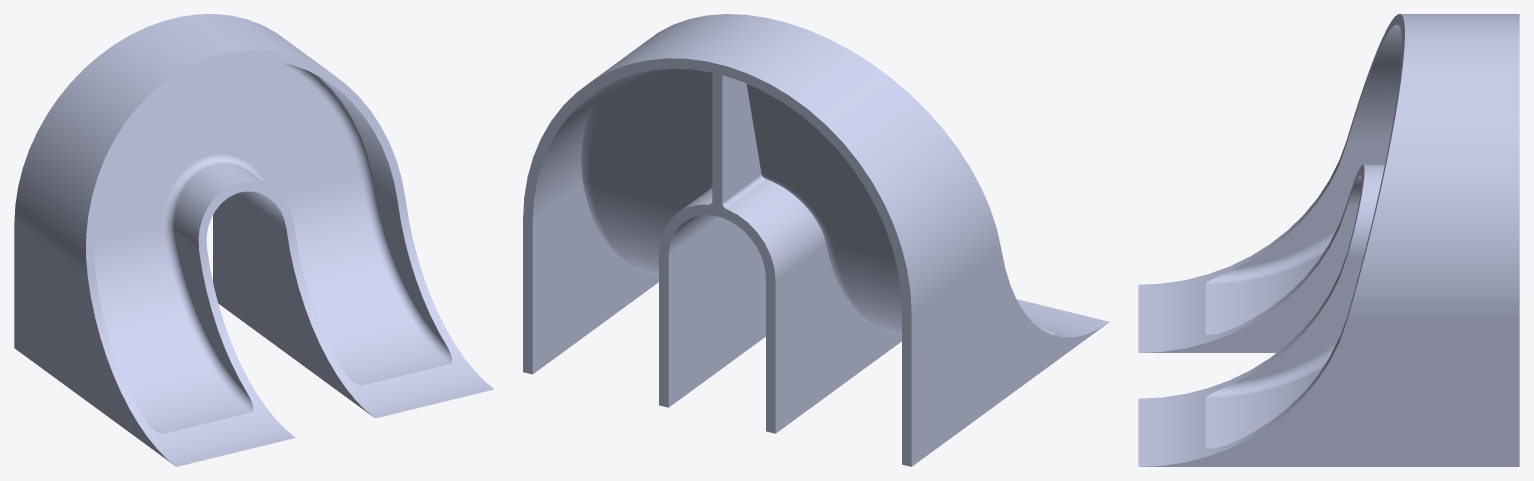
The model's file is Vertical Loop Ramp.fbx.
The picture shows the model from 3 angles, left to right: view 1: azimuth 30°, elevation 25°; view 2: azimuth 150°, elevation 25°; view 3: azimuth 270°, elevation 25°; orthographic projection. The views are drawn at different scales.
Visible parts, largest first — view 1: Vertical_loop_ramp; view 2: Vertical_loop_ramp; view 3: Vertical_loop_ramp.
Part boxes in pixels (bbox=[...]): Vertical_loop_ramp: bbox=[14, 14, 494, 466]; Vertical_loop_ramp: bbox=[523, 14, 1109, 466]; Vertical_loop_ramp: bbox=[1138, 14, 1519, 466].
Size of the model in its own units: 10.16 by 8.88 by 8.98.
